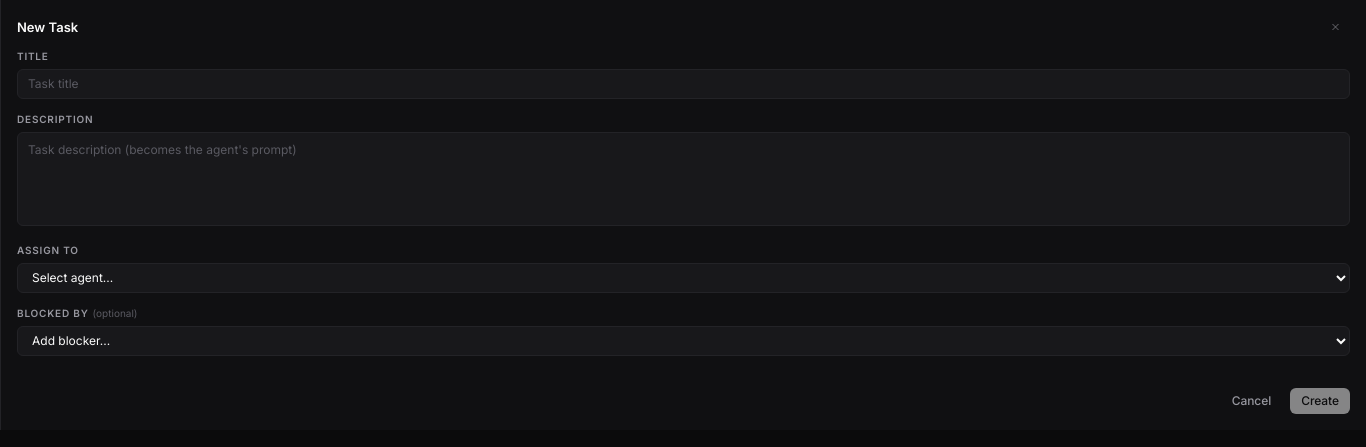
Test: CreateTaskSidebar › disables Create until title, description and agent are all set
This screenshot has width=1366, height=447.
Expected: the button "Create" is disabled, [1290,388,1350,414]
Step 1. Type "Ship it" into the field with placeholder "Task title" → (684, 84), box [28,76,1339,92]
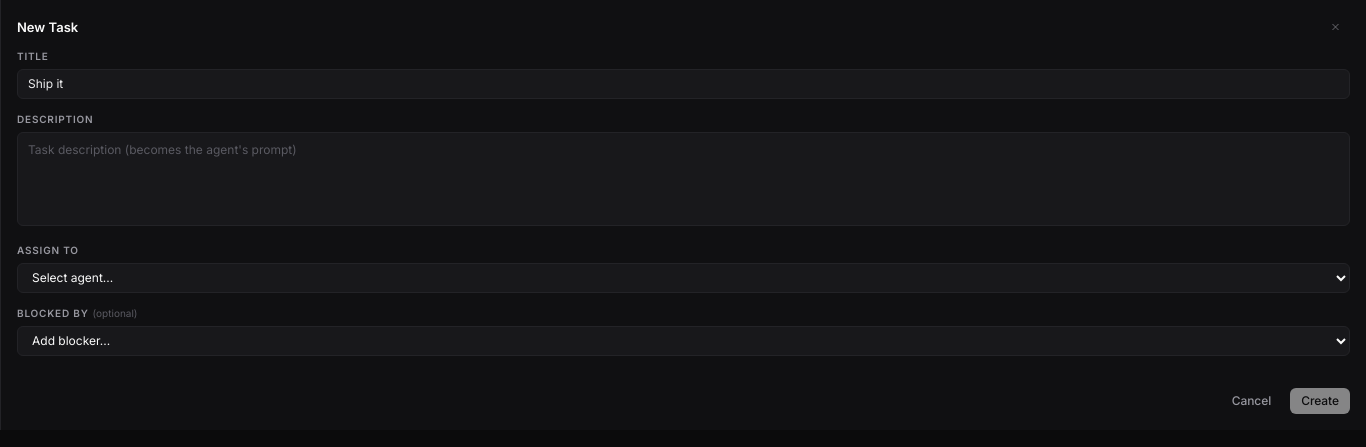
Expected: the button "Create" is disabled, [1290,388,1350,414]
Step 2. Type "Details" into the text box with id "task-desc" → (684, 179), box [17,132,1350,226]
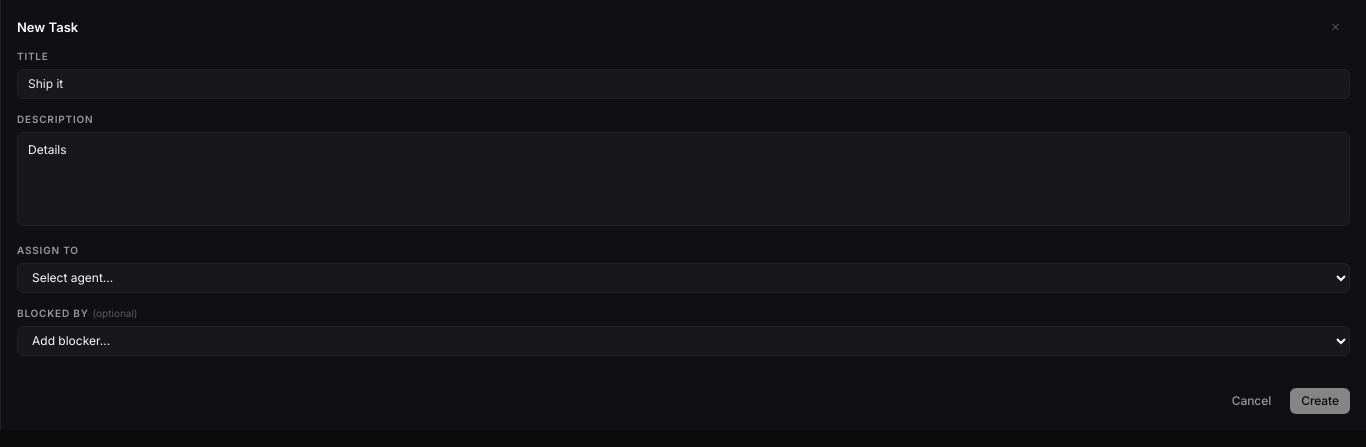
Expected: the button "Create" is disabled, [1290,388,1350,414]
Step 3. Select "Agent One" in the dropdown with id "task-agent" → (684, 278), box [17,263,1350,293]
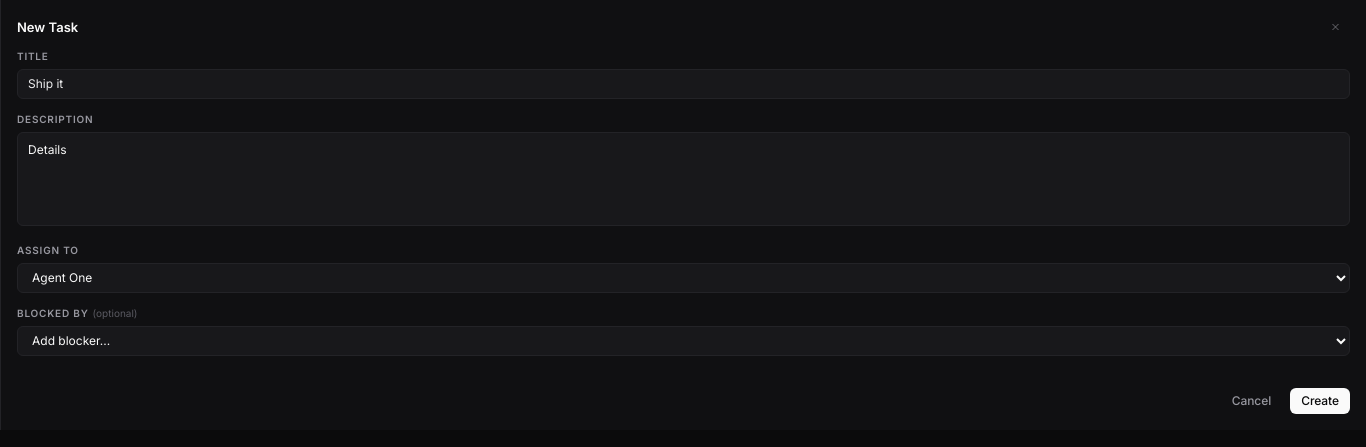
Expected: the button "Create" is enabled, [1290,388,1350,414]
